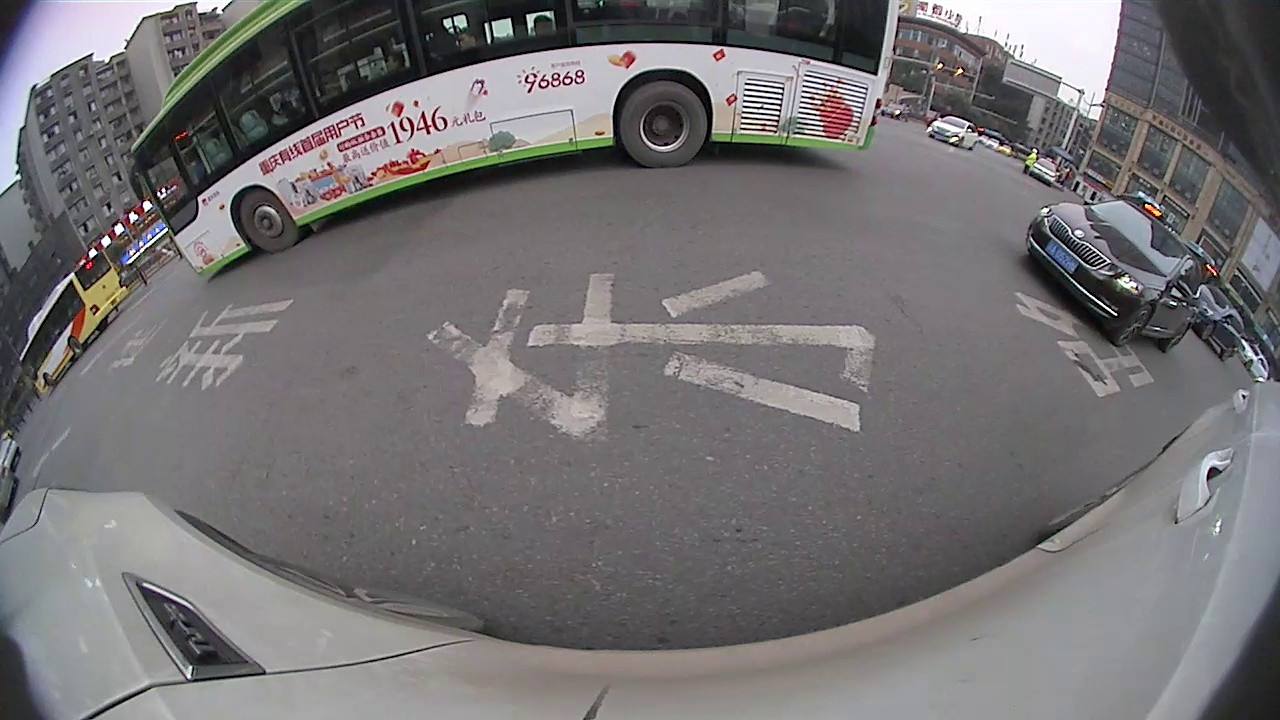bus: (130, 1, 899, 288), (15, 244, 125, 405)
car: (1026, 194, 1201, 350), (1192, 281, 1247, 358), (927, 116, 980, 148), (1034, 155, 1059, 187)
front: (236, 185, 301, 260), (1113, 300, 1157, 350)
person: (1020, 143, 1038, 177)
rear: (617, 76, 711, 172)
